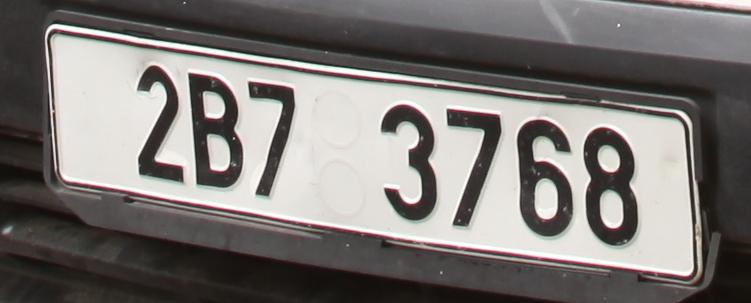2: (134, 64, 182, 180)
3: (377, 105, 437, 222)
6: (518, 119, 570, 238)
7: (446, 107, 503, 226), (249, 80, 294, 198)
8: (583, 127, 640, 246)
B: (189, 71, 242, 187)
